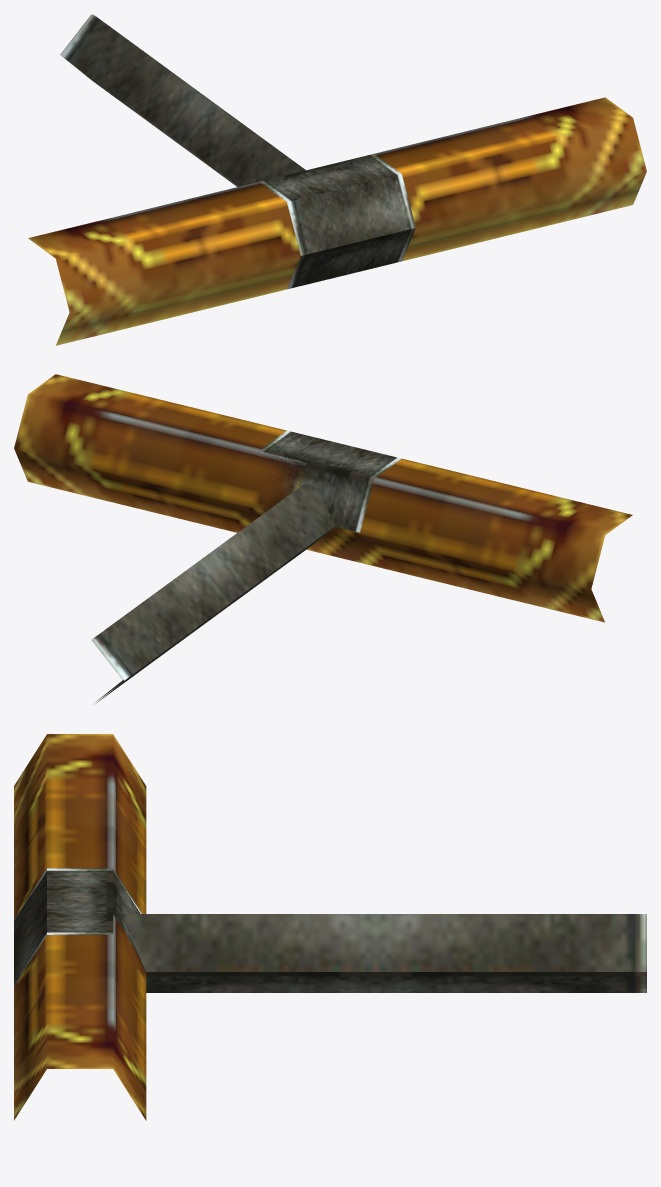
The model's file is OBJRailing.gltf.
The picture shows the model from 3 angles, top to bottom: view 1: azimuth 30°, elevation 25°; view 2: azimuth 150°, elevation 25°; view 3: azimuth 270°, elevation 25°; orthographic projection. The views are drawn at different scales.
Visible parts, largest first — view 1: Railing, RailingEndR, RailingEndL; view 2: Railing, RailingEndR, RailingEndL; view 3: RailingEndL, Railing, RailingEndR.
Part boxes in pixels (bbox=[...]): Railing: bbox=[28, 97, 646, 345]; RailingEndR: bbox=[60, 14, 415, 289]; RailingEndL: bbox=[92, 14, 385, 201]; Railing: bbox=[14, 374, 632, 622]; RailingEndR: bbox=[93, 430, 400, 703]; RailingEndL: bbox=[91, 439, 401, 702]; RailingEndL: bbox=[47, 868, 646, 992]; Railing: bbox=[14, 734, 146, 1120]; RailingEndR: bbox=[14, 869, 646, 986].
Size of the model in its own units: 1 by 0.1445 by 0.7987.
Materials: 1 (1 with a texture image).
